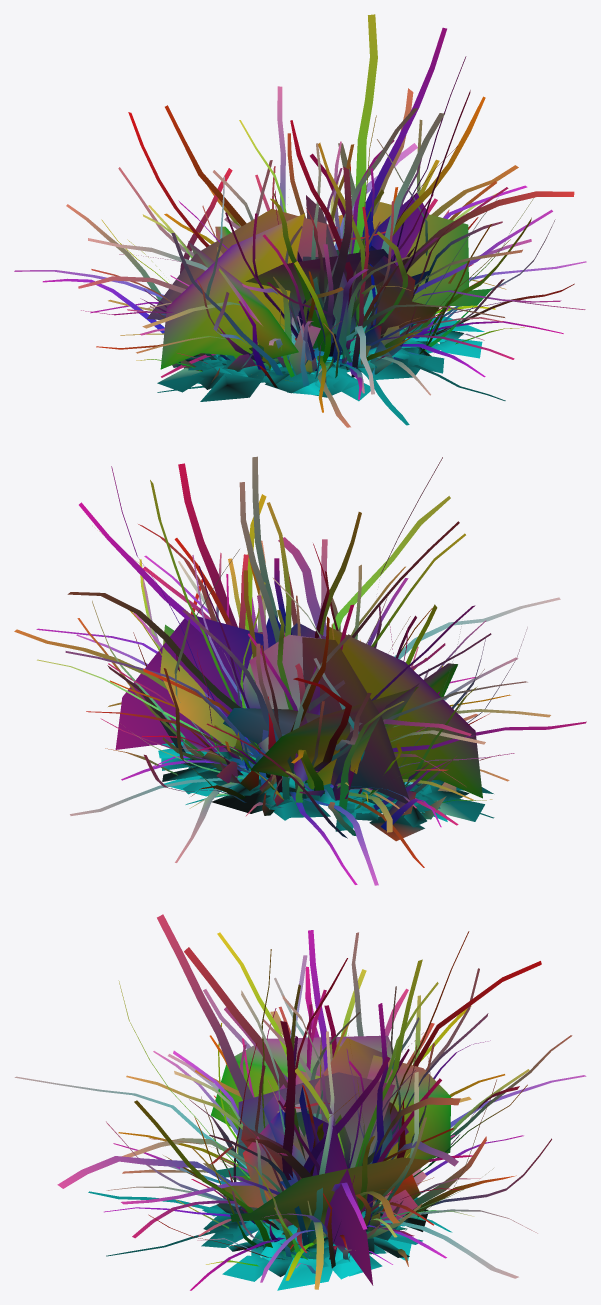
Rendered from Wild_Grass_vczndjqja_Mid_vczndjqja_VarA_LOD2.fbx.
3 views of the same model, one above another, from view 1: azimuth 30°, elevation 25°; view 2: azimuth 150°, elevation 25°; view 3: azimuth 270°, elevation 25° (orthographic). The views are drawn at different scales.
Parts seen in each view (by area): view 1: _xnq8_VarA_LOD3; view 2: _xnq8_VarA_LOD3; view 3: _xnq8_VarA_LOD3.
Boxes of the visible parts, x1,y1,x2,y2 form: _xnq8_VarA_LOD3: (14,14,586,427); _xnq8_VarA_LOD3: (14,456,586,885); _xnq8_VarA_LOD3: (14,914,586,1290).
Bounding box in the file's own units: 158 × 90.28 × 149.
